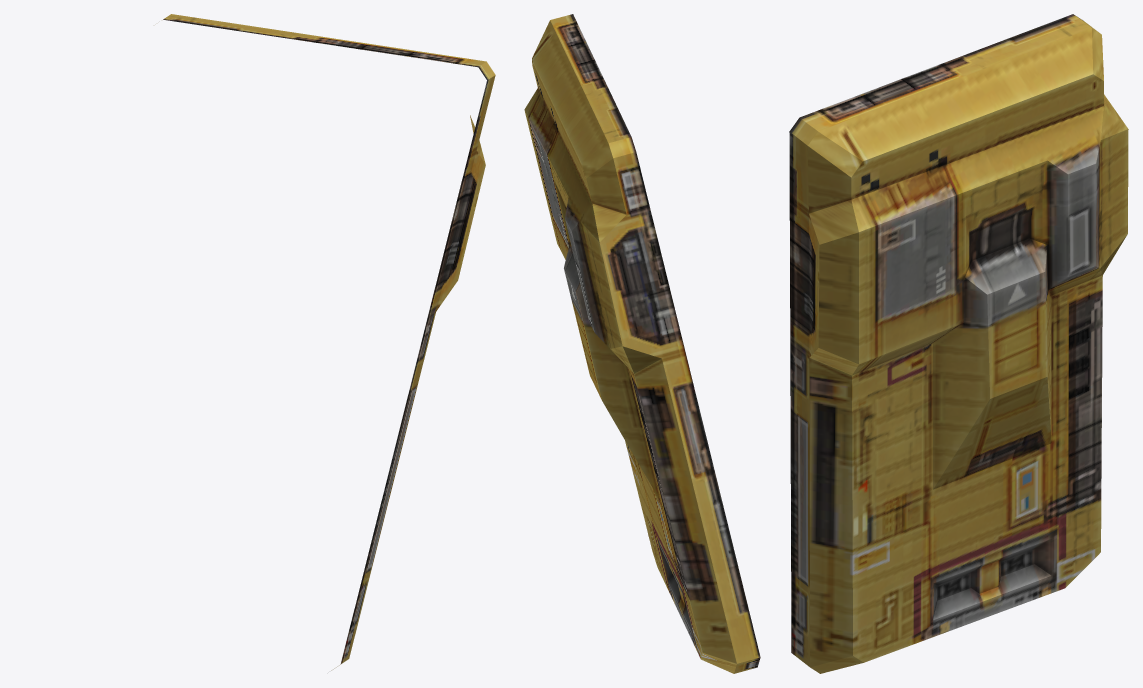
File: hgn_flagship_explorer_03_hangar_01_l.glb
3 views of the same model, side by side, from view 1: azimuth 30°, elevation 25°; view 2: azimuth 150°, elevation 25°; view 3: azimuth 270°, elevation 25° (orthographic). The views are drawn at different scales.
Parts seen in each view (by area): view 1: hgn_flagship_explorer_03_hangar_01_l; view 2: hgn_flagship_explorer_03_hangar_01_l; view 3: hgn_flagship_explorer_03_hangar_01_l.
Boxes of the visible parts, x1,y1,x2,y2 form: hgn_flagship_explorer_03_hangar_01_l: [163, 14, 495, 670]; hgn_flagship_explorer_03_hangar_01_l: [524, 14, 760, 673]; hgn_flagship_explorer_03_hangar_01_l: [789, 14, 1128, 673].
Size of the model in its own units: 1.08 by 1.64 by 0.7989.
1 material, 1 textured.
